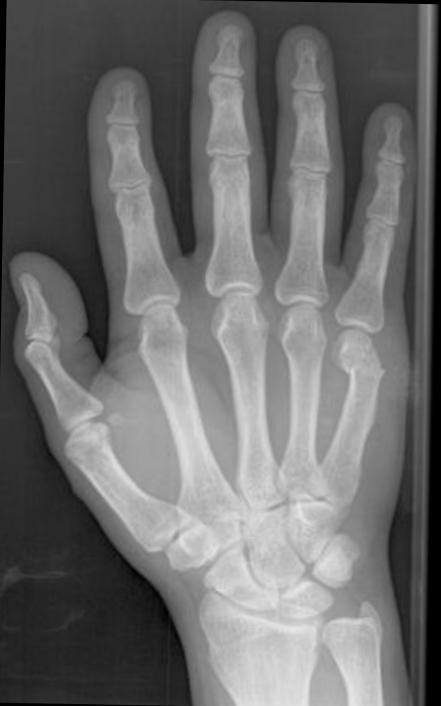fracture: (342, 349, 388, 382)
